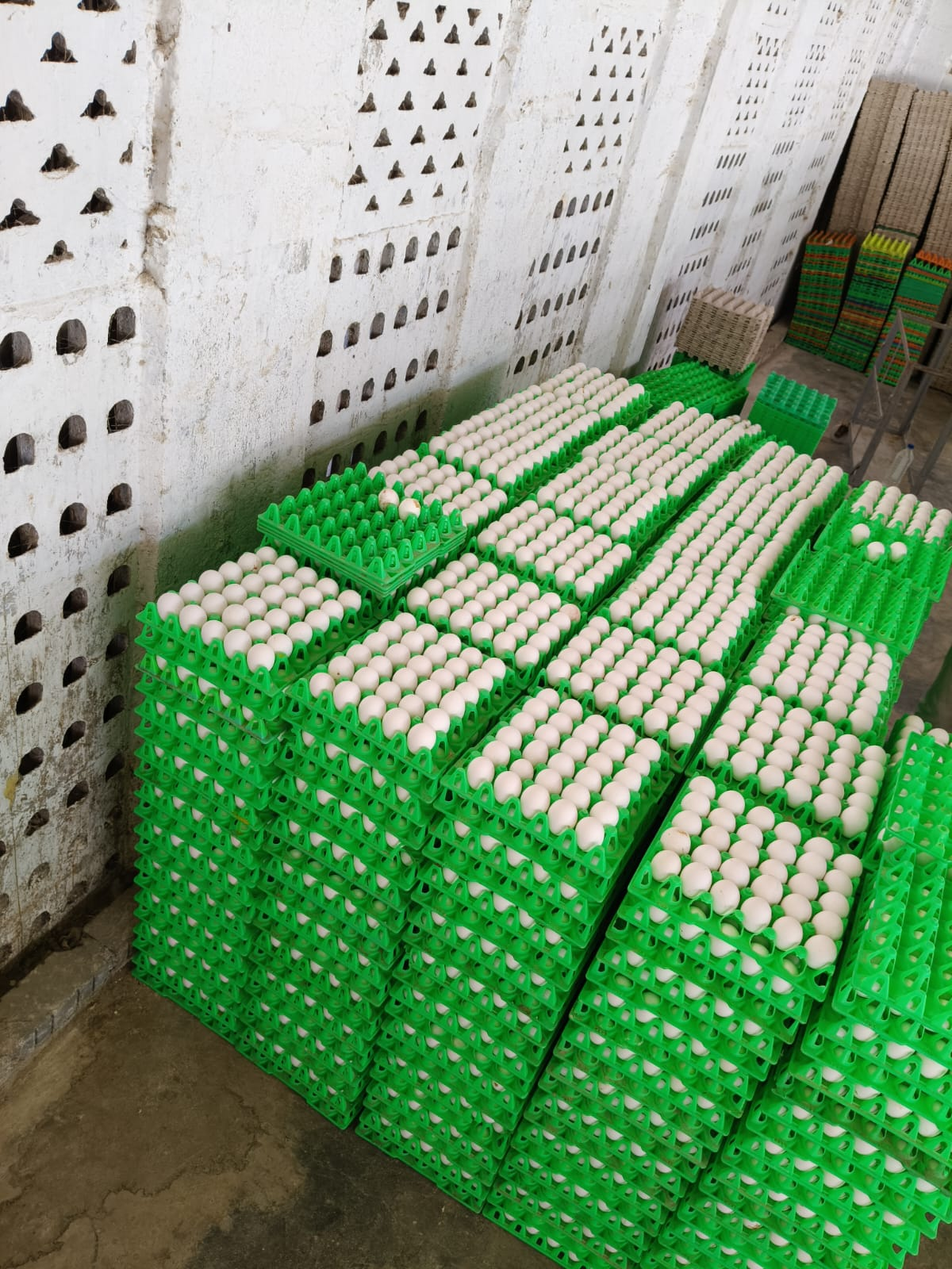egg_tray: (677, 767, 855, 975), (487, 688, 641, 859), (315, 627, 504, 753), (167, 544, 347, 658), (727, 685, 886, 812), (764, 611, 876, 713), (291, 492, 434, 565), (576, 614, 681, 709), (444, 550, 542, 645), (648, 572, 745, 651), (513, 344, 633, 406), (383, 426, 463, 518), (508, 516, 611, 586), (680, 500, 764, 582), (719, 476, 802, 541), (584, 442, 685, 495), (812, 561, 905, 609), (452, 413, 527, 472), (857, 490, 944, 539), (582, 458, 652, 514), (645, 408, 730, 450), (751, 439, 812, 495), (508, 397, 575, 442)
